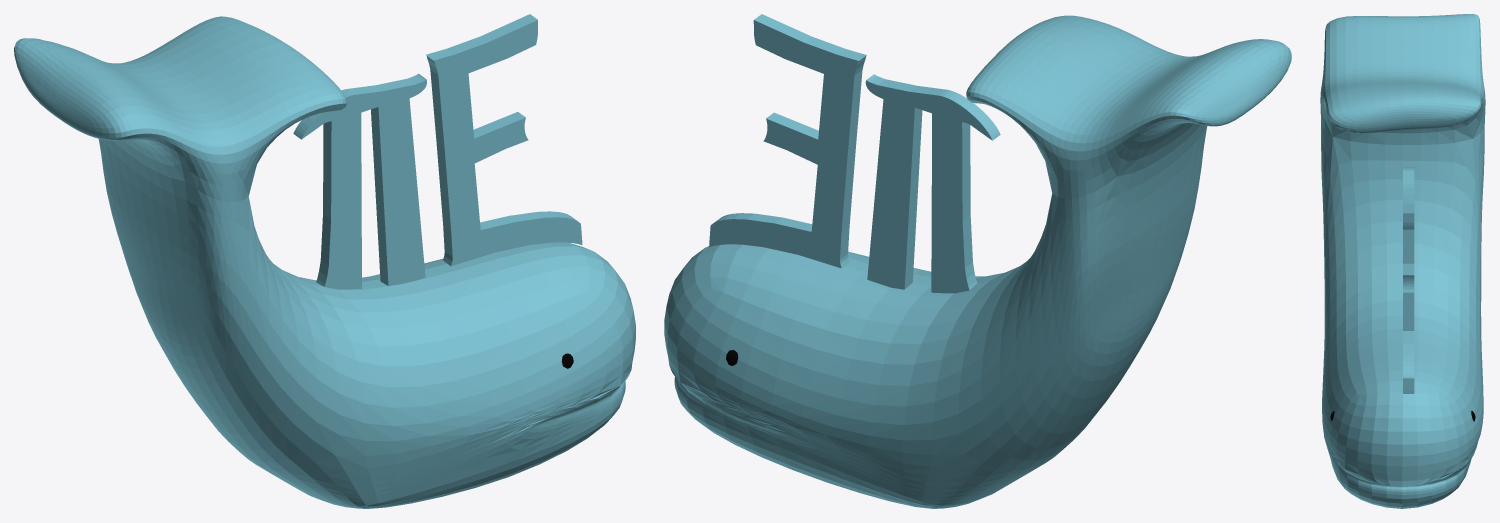
The model's file is partsevenmodel.dae.
The picture shows the model from 3 angles, left to right: view 1: azimuth 30°, elevation 25°; view 2: azimuth 150°, elevation 25°; view 3: azimuth 270°, elevation 25°; orthographic projection. The views are drawn at different scales.
Visible parts, largest first — view 1: Cube_001, Spline_1, Spline; view 2: Cube_001, Spline_1, Spline; view 3: Cube_001, Spline, Spline_1.
Boxes of the visible parts, x1,y1,x2,y2 form: Cube_001: (14,16,635,508); Spline_1: (293,73,426,289); Spline: (426,14,582,266); Cube_001: (664,15,1291,508); Spline_1: (865,74,1000,293); Spline: (709,14,866,268); Cube_001: (1320,14,1485,508); Spline: (1403,188,1414,393); Spline_1: (1403,167,1414,188).
Size of the model in its own units: 2.09 by 0.7464 by 1.72.
